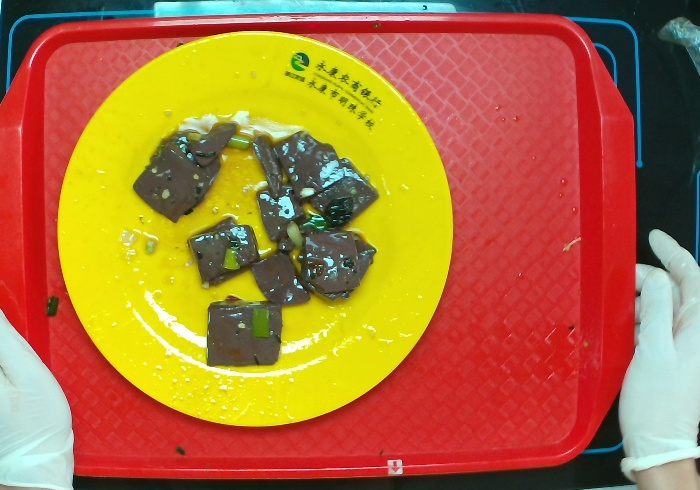YKMZ-Huang_Se_Mian_Pan: (54, 32, 454, 429)
